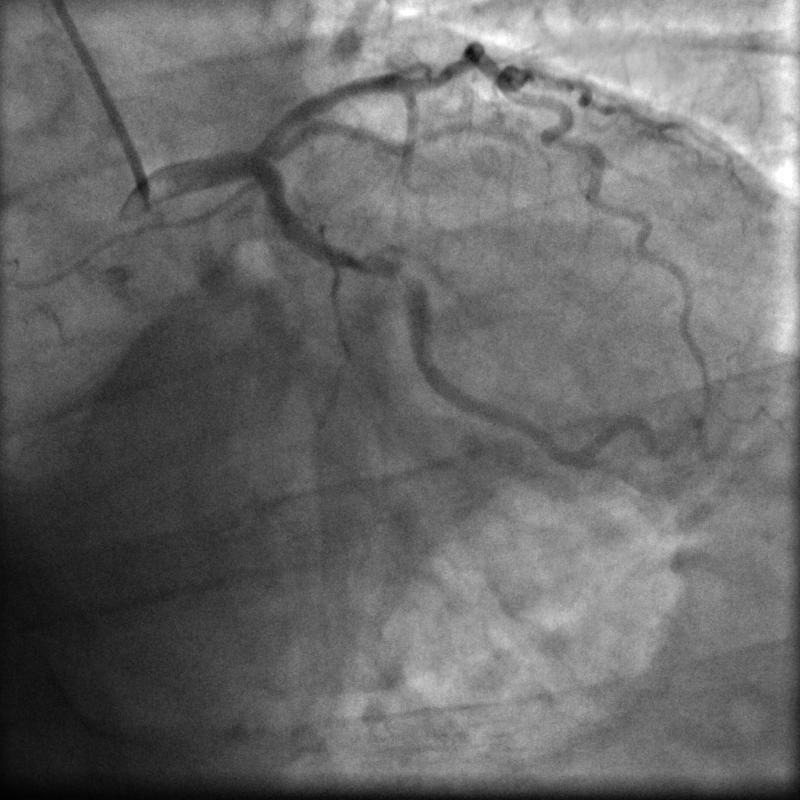Stenosis: (369, 255, 419, 294)
